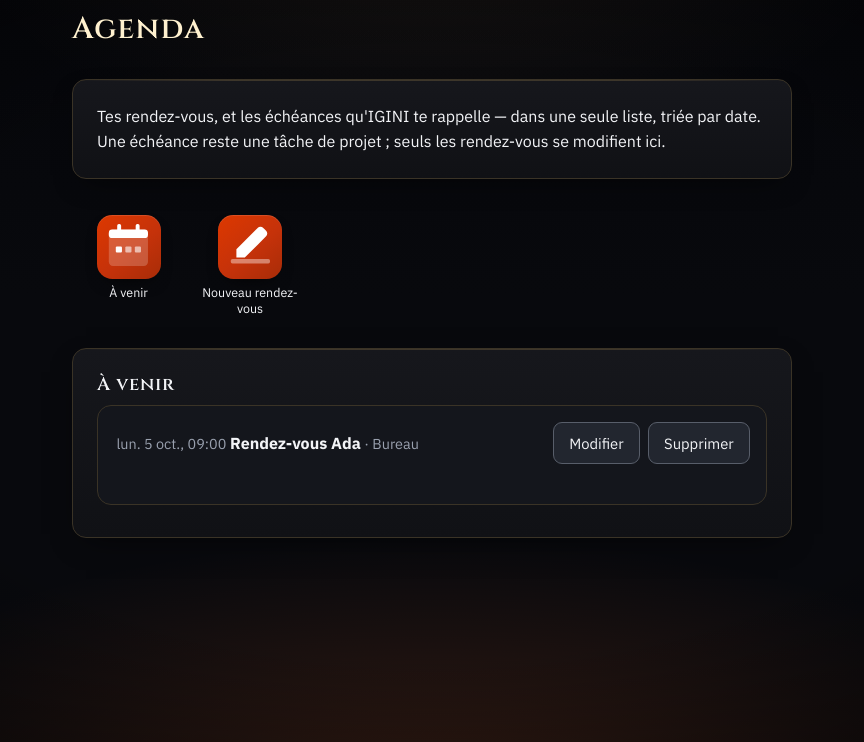
AgendaPage › modifie un rendez-vous via le formulaire en ligne
Expected: the text "Rendez-vous Ada" is shown, [230,433,361,453]
Click the button "Modifier": (596, 443) [553,422,640,464]
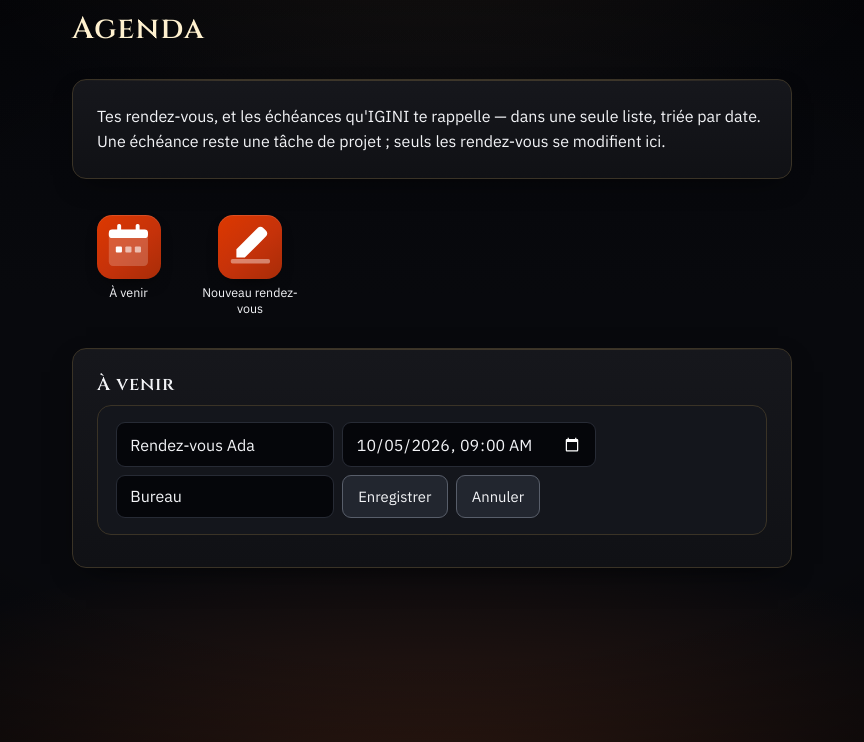
Replace the text in the field named "Titre de Rendez-vous Ada" with "Rendez-vous reporté": (225, 445) [116,422,334,467]
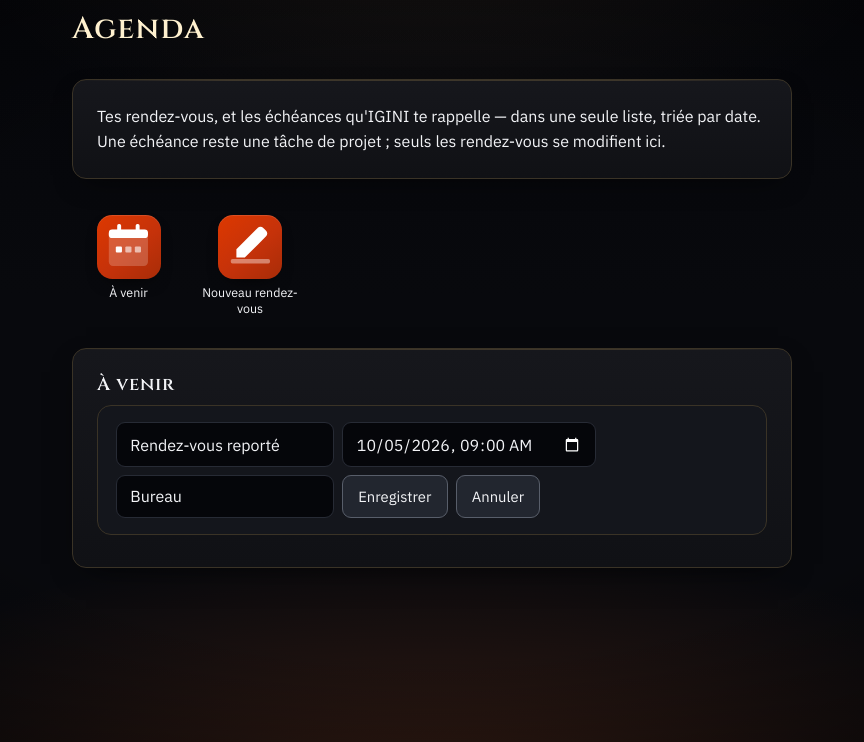
Click the button "Enregistrer": (395, 496) [342,475,448,518]
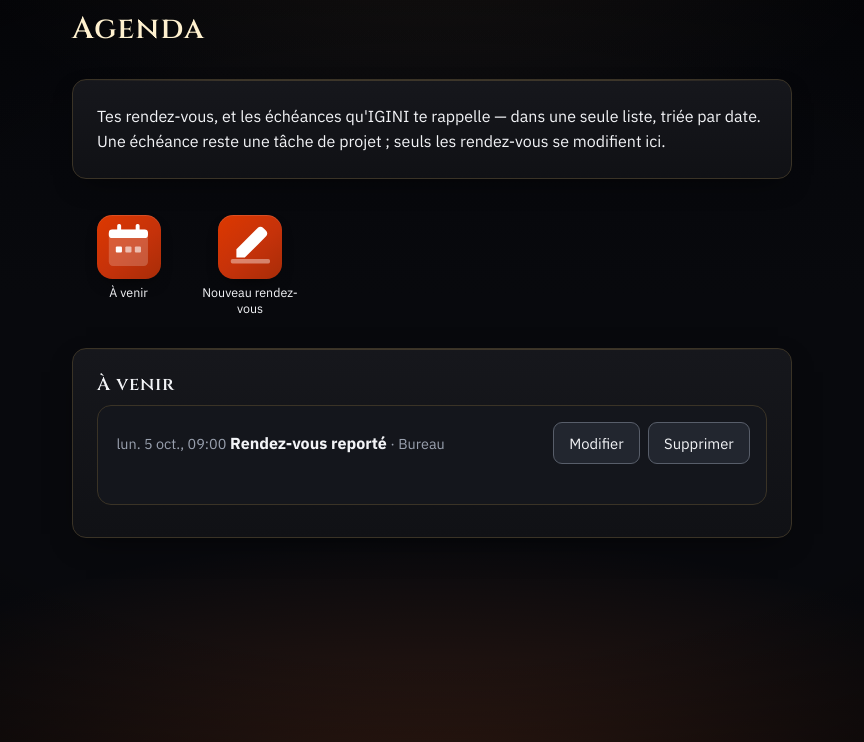
Now the text "Rendez-vous reporté" is shown, box [230,433,387,453]
